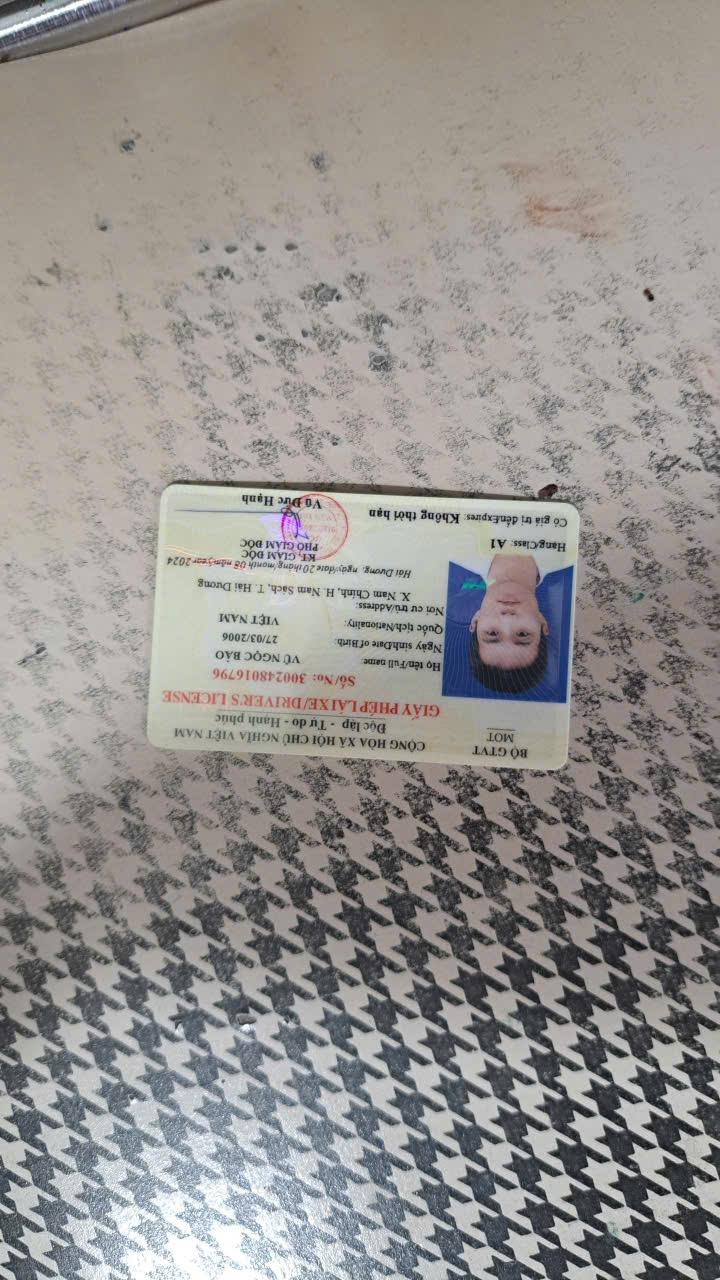gplx: (142, 475, 592, 778)
